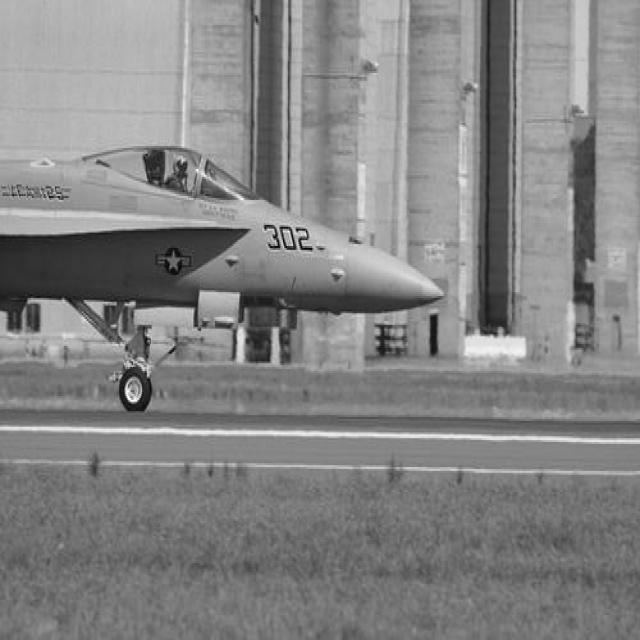aeroplane: (0, 134, 444, 408)
